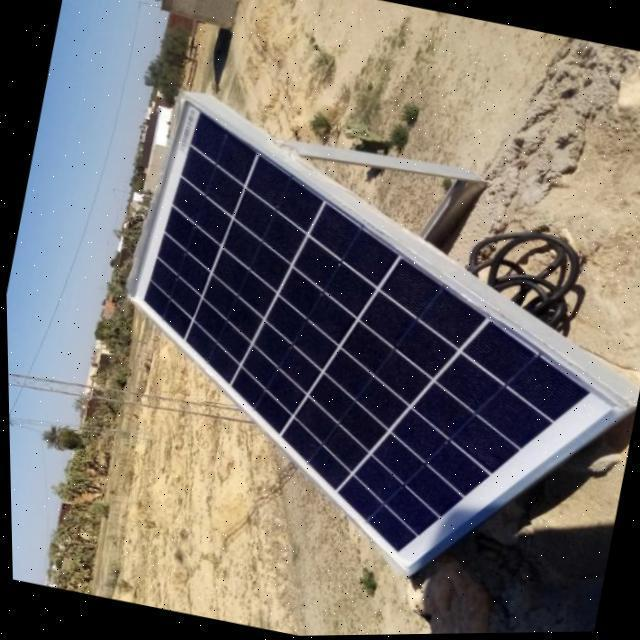Normal Solar Panel: (76, 87, 640, 618)
